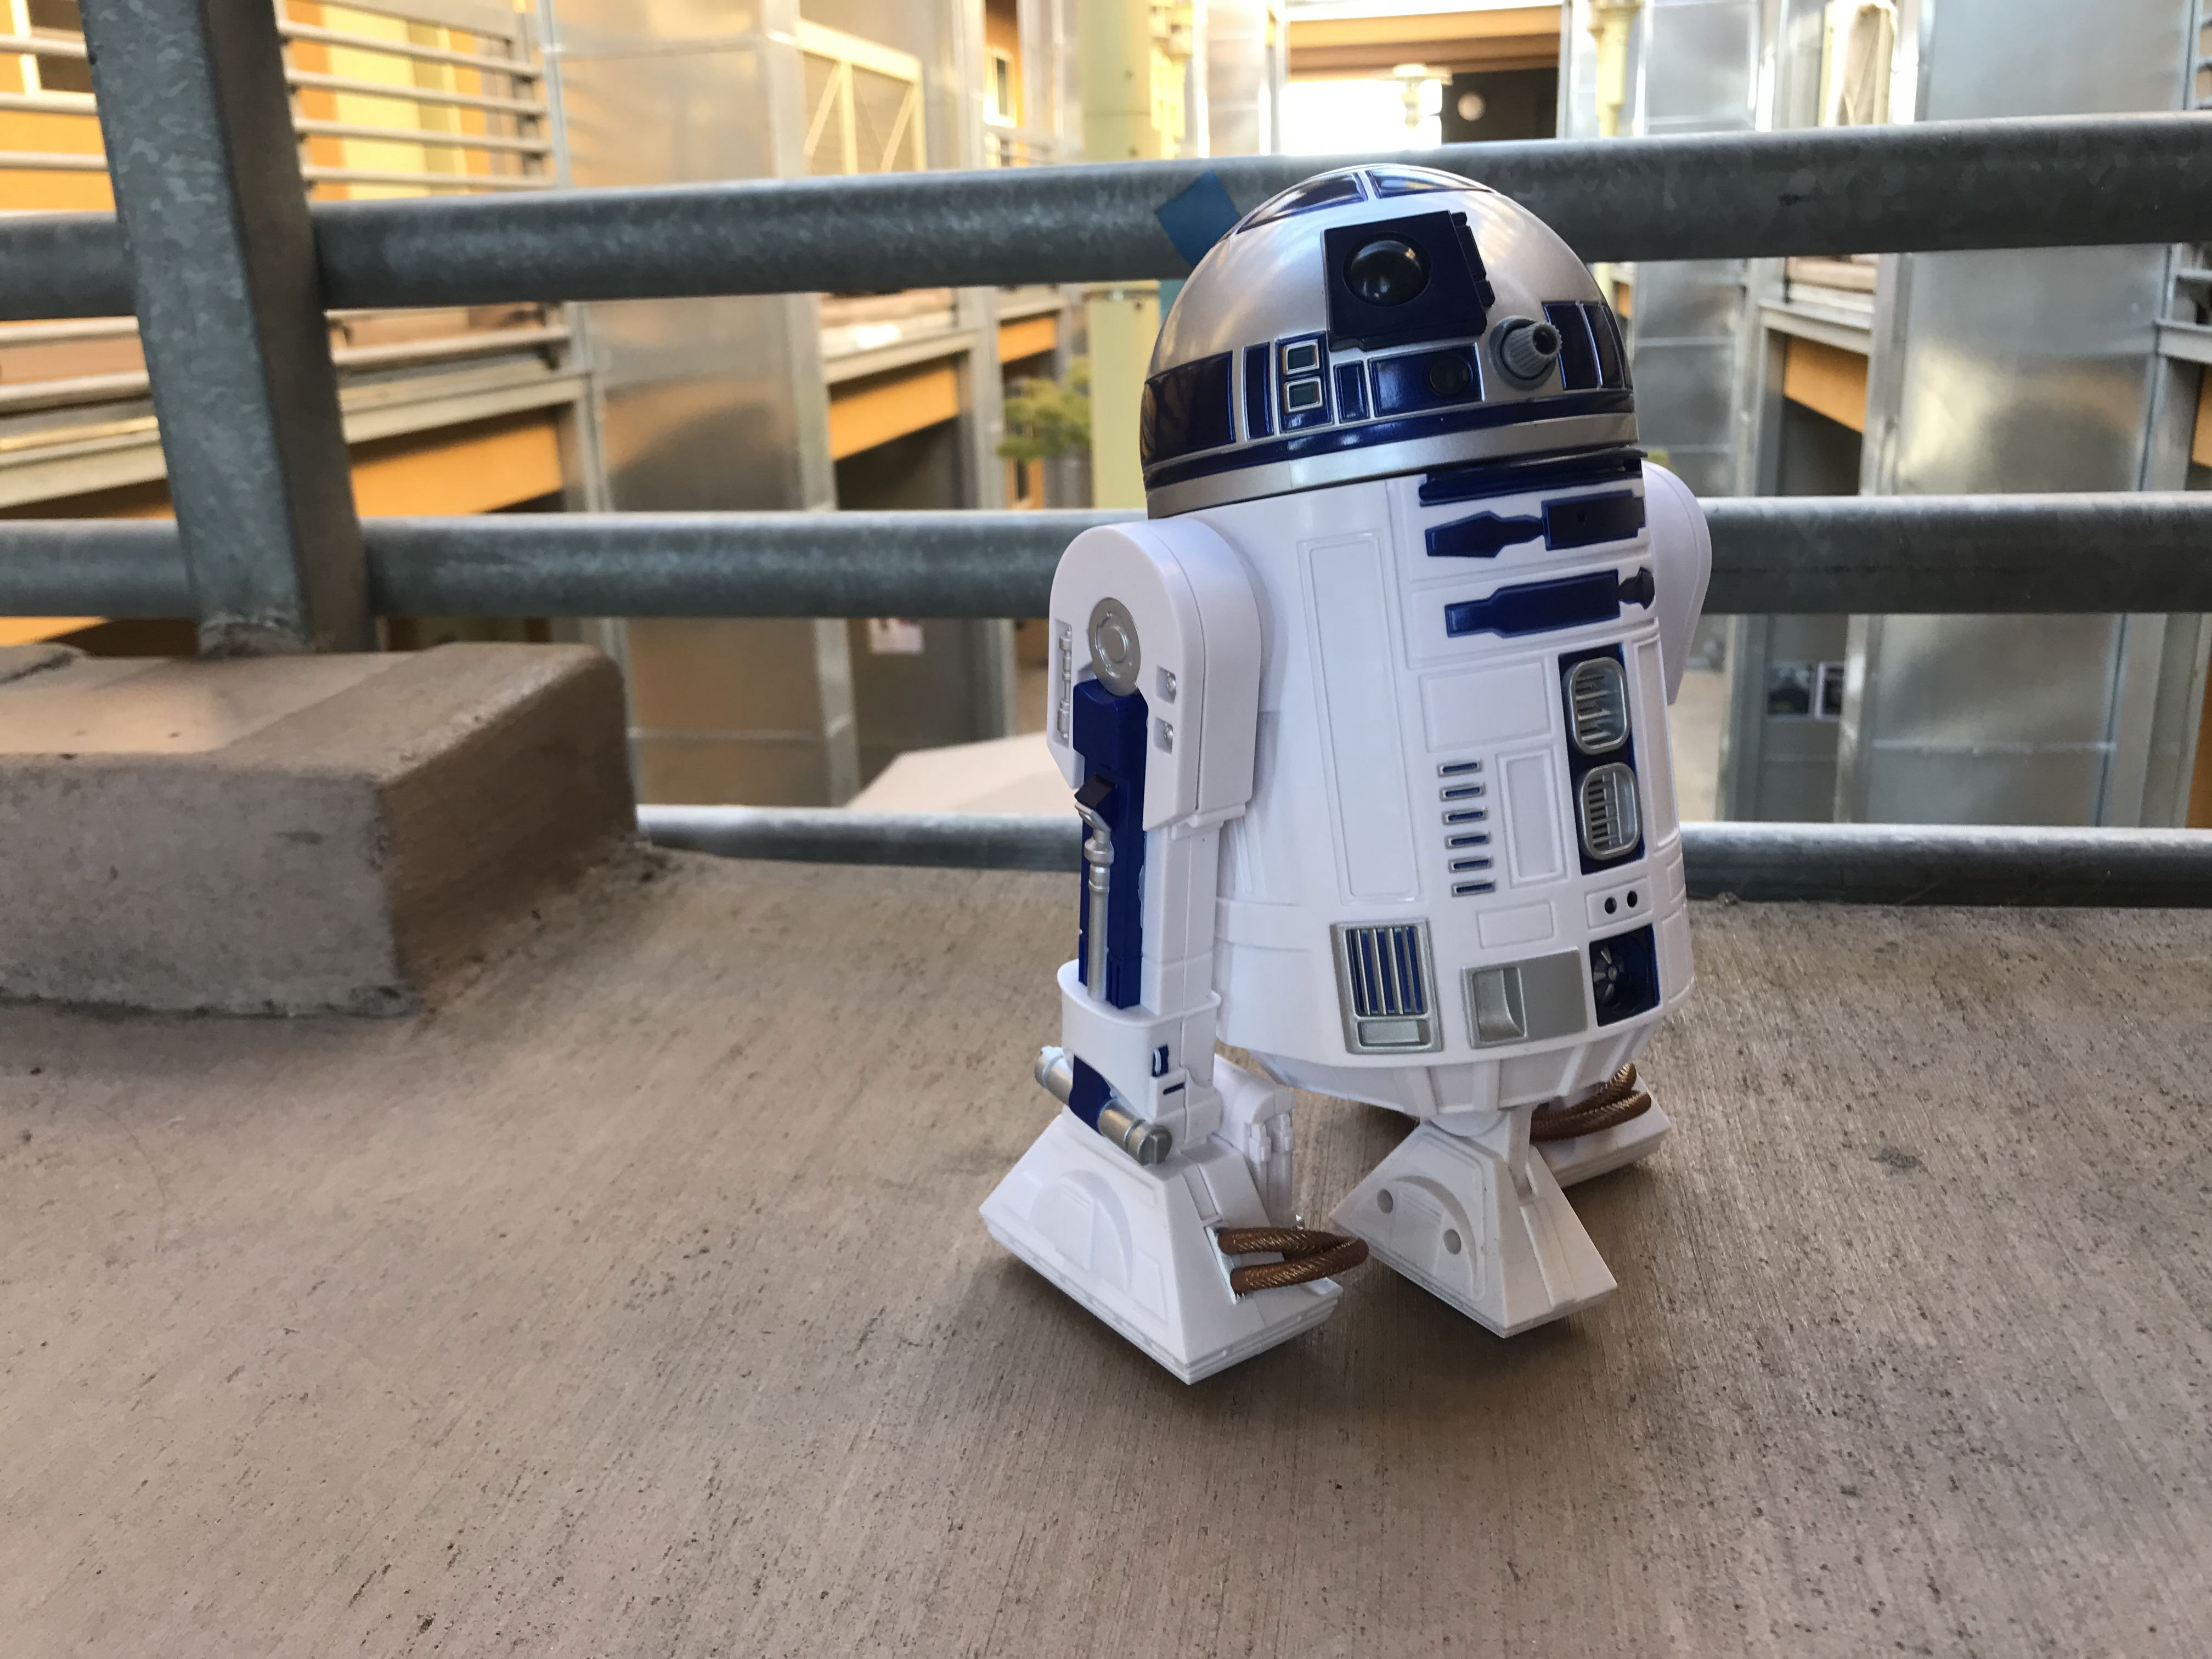r2d2: (970, 162, 1719, 1387)
